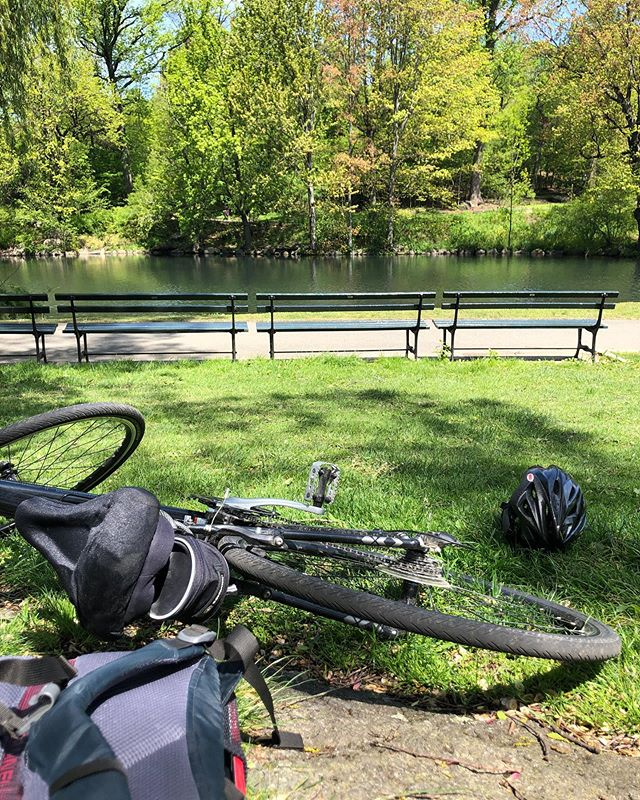bench: (51, 281, 249, 369), (439, 274, 618, 361), (259, 281, 438, 368)
bicicle: (1, 402, 592, 685)
grass: (9, 354, 640, 477)
river: (9, 242, 639, 300)
vegetation: (1, 1, 640, 242)
